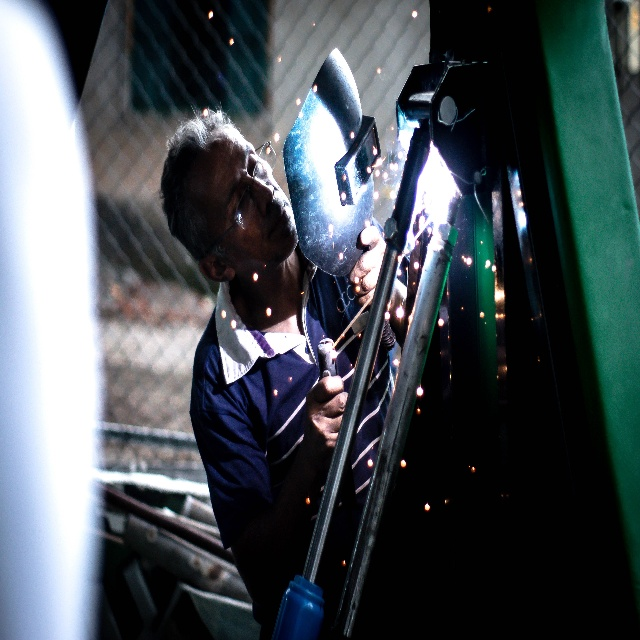Gafas: (204, 139, 277, 256)
Sin_guantes: (301, 375, 348, 468), (349, 226, 387, 308)
